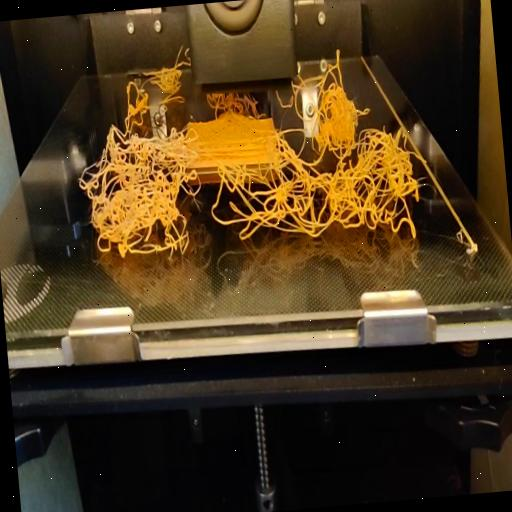spaghetti: (70, 72, 426, 268), (122, 43, 192, 97), (326, 48, 346, 82)
